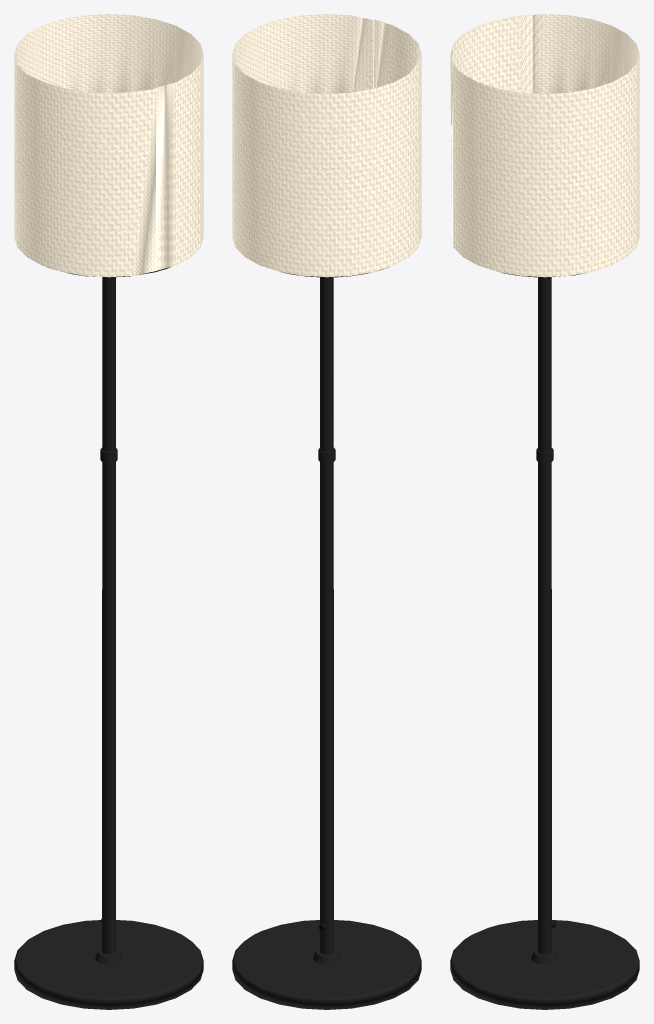
The model's file is living_floor_lamp.glb.
3 renders of one model, left to right at view 1: azimuth 30°, elevation 25°; view 2: azimuth 150°, elevation 25°; view 3: azimuth 270°, elevation 25°, orthographic.
Visible parts, largest first — view 1: Silindirik Kumaş Abajur, Metal Taban, Gövde Dik Boru; view 2: Silindirik Kumaş Abajur, Metal Taban, Gövde Dik Boru; view 3: Silindirik Kumaş Abajur, Metal Taban, Gövde Dik Boru.
Part boxes in pixels (bbox=[...]): Silindirik Kumaş Abajur: bbox=[14, 14, 203, 277]; Metal Taban: bbox=[14, 920, 203, 1009]; Gövde Dik Boru: bbox=[102, 277, 115, 954]; Silindirik Kumaş Abajur: bbox=[232, 14, 421, 277]; Metal Taban: bbox=[232, 920, 421, 1009]; Gövde Dik Boru: bbox=[320, 277, 333, 954]; Silindirik Kumaş Abajur: bbox=[450, 14, 639, 277]; Metal Taban: bbox=[450, 920, 639, 1009]; Gövde Dik Boru: bbox=[538, 277, 551, 954].
Size of the model in its own units: 0.3 by 1.6 by 0.3.
6 materials, 1 textured.
